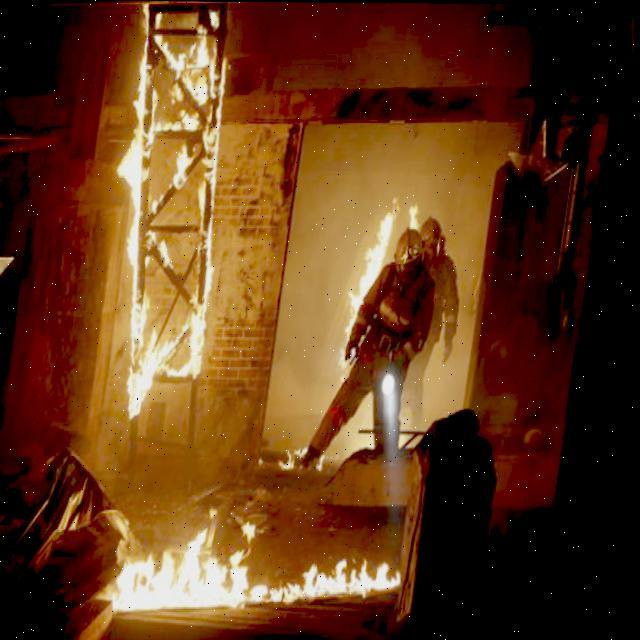Fire: (96, 11, 260, 402), (127, 513, 420, 608), (348, 200, 438, 377)
